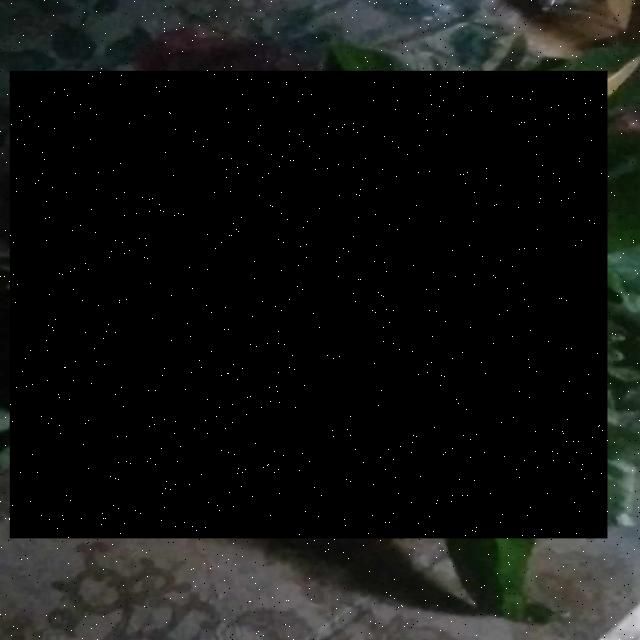Palungo: (10, 71, 608, 539)
